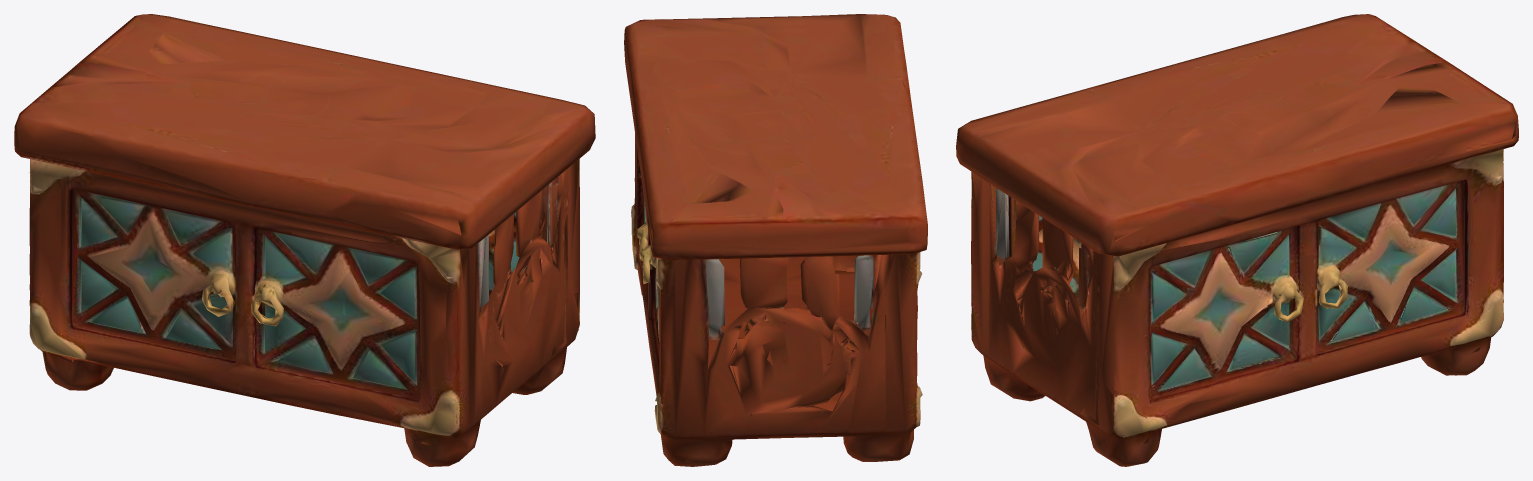
The model's file is wuesten_kommode_a.glb.
The picture shows the model from 3 angles, left to right: view 1: azimuth 30°, elevation 25°; view 2: azimuth 150°, elevation 25°; view 3: azimuth 270°, elevation 25°; orthographic projection. The views are drawn at different scales.
Parts seen in each view (by area): view 1: tripo_node_3d3c1eb7-ecf5-432d-b0c5-2f506995172e; view 2: tripo_node_3d3c1eb7-ecf5-432d-b0c5-2f506995172e; view 3: tripo_node_3d3c1eb7-ecf5-432d-b0c5-2f506995172e.
Part boxes in pixels (left/top/right/bottom): tripo_node_3d3c1eb7-ecf5-432d-b0c5-2f506995172e: left=14, top=14, right=595, bottom=466; tripo_node_3d3c1eb7-ecf5-432d-b0c5-2f506995172e: left=624, top=14, right=927, bottom=466; tripo_node_3d3c1eb7-ecf5-432d-b0c5-2f506995172e: left=956, top=14, right=1518, bottom=466.
Bounding box in the file's own units: 1.01 × 0.5899 × 1.13.
Materials: 1 (1 with a texture image).
